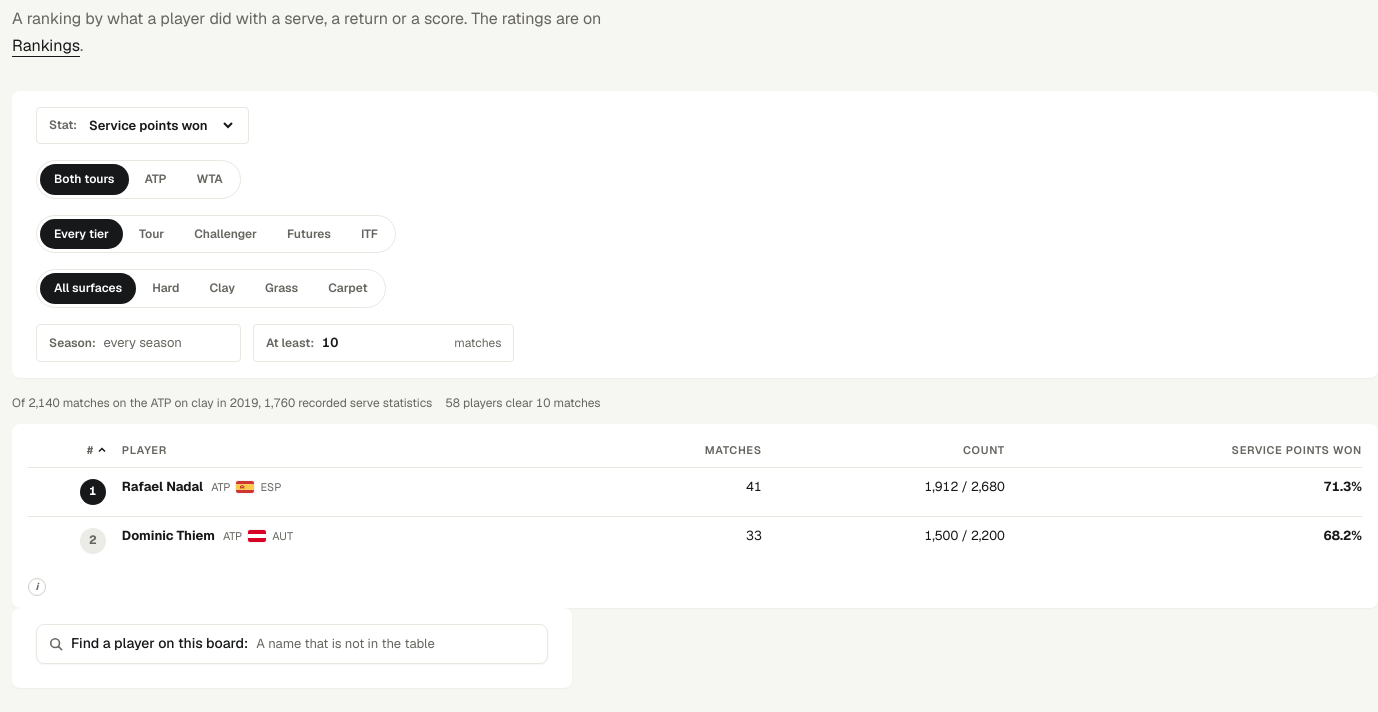
Test: Leaders › says why a sought name is absent: no figure at all
The width and height of the screenshot is (1378, 712).
(page scrolled)
Expected: the text "71.3%" is shown, [1323,478,1362,495]
Type "nobody" into the dropdown labelled "Find a player on this board".
click(396, 644); type("nobody")  # box [256,625,535,663]
(page scrolled)
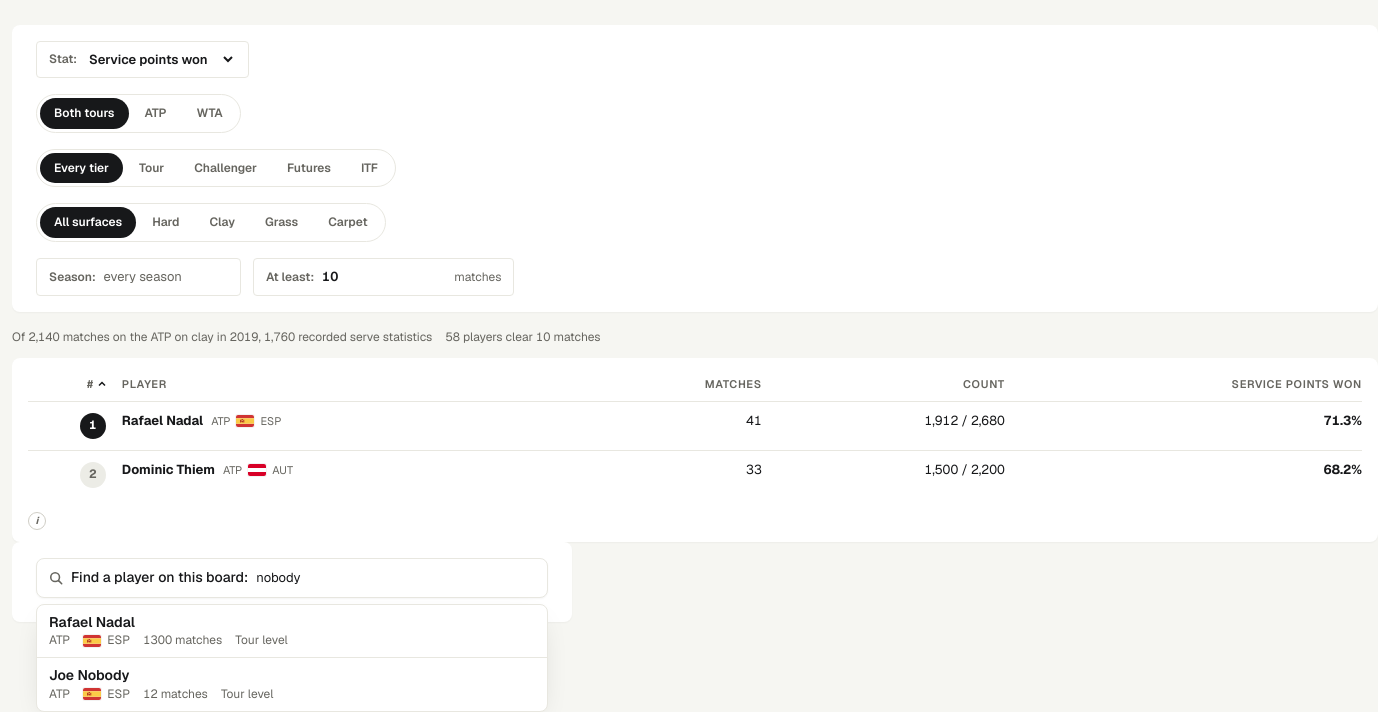
Press the mouse on the option "Joe Nobody ATP ESP 12 matches Tour level" at (161, 684), box [49,666,273,702]
(page scrolled)
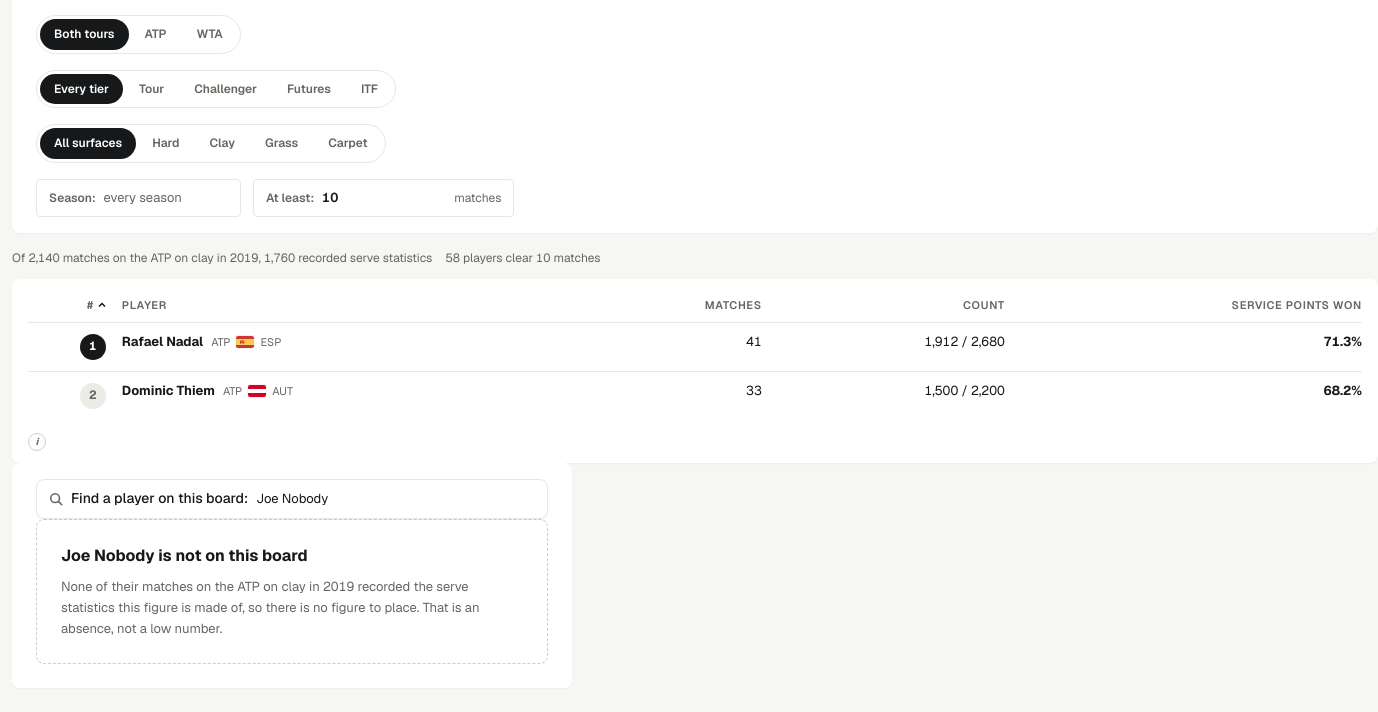
Expected: the heading "Joe Nobody is not on this board" is shown, [61,545,308,566]
Expected: the text "That is an absence, not a low number" is shown, [61,578,480,637]
